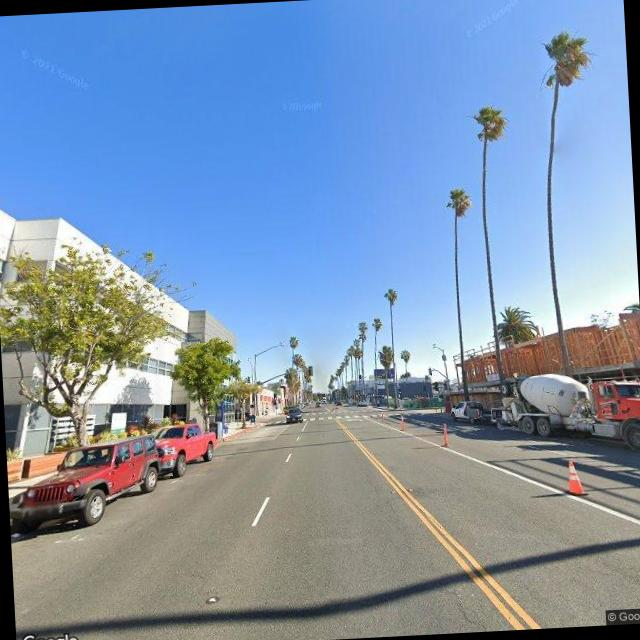pothole: (438, 578, 506, 633)
